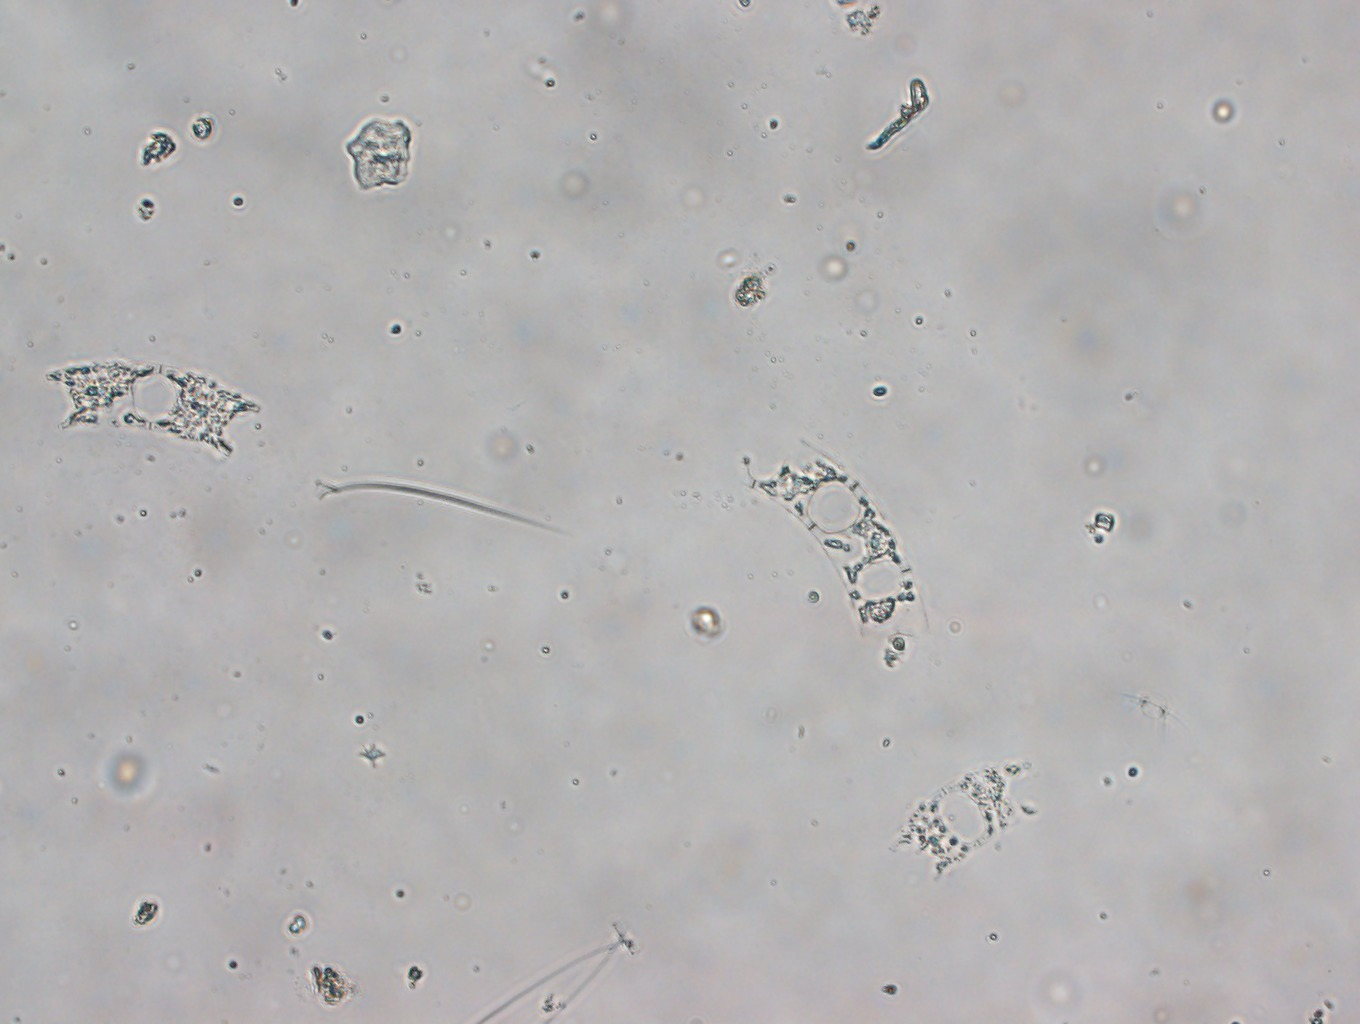eucampia: (757, 433, 930, 641), (43, 361, 261, 463), (889, 757, 1041, 882)
